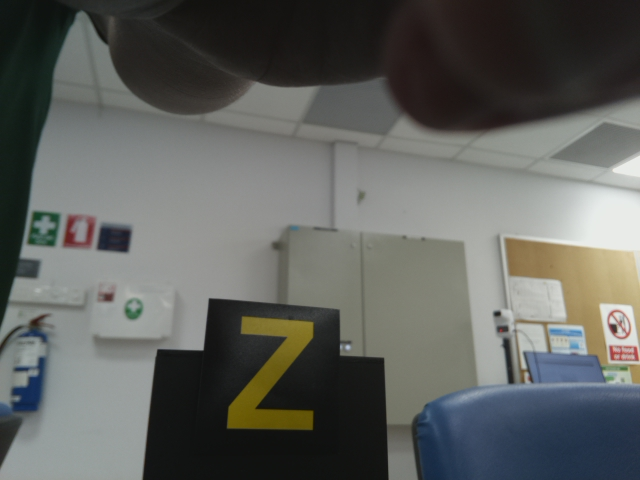z: (231, 310, 317, 442)
